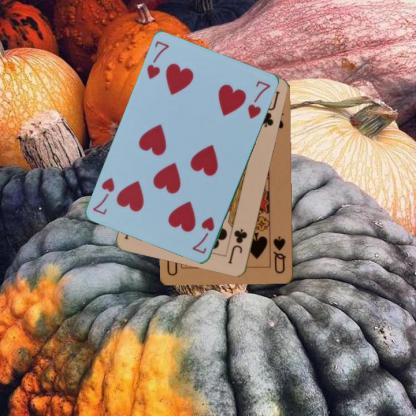7h: (190, 214, 216, 256), (144, 39, 170, 81)
Jc: (226, 226, 249, 266)
Qs: (271, 234, 288, 275)
